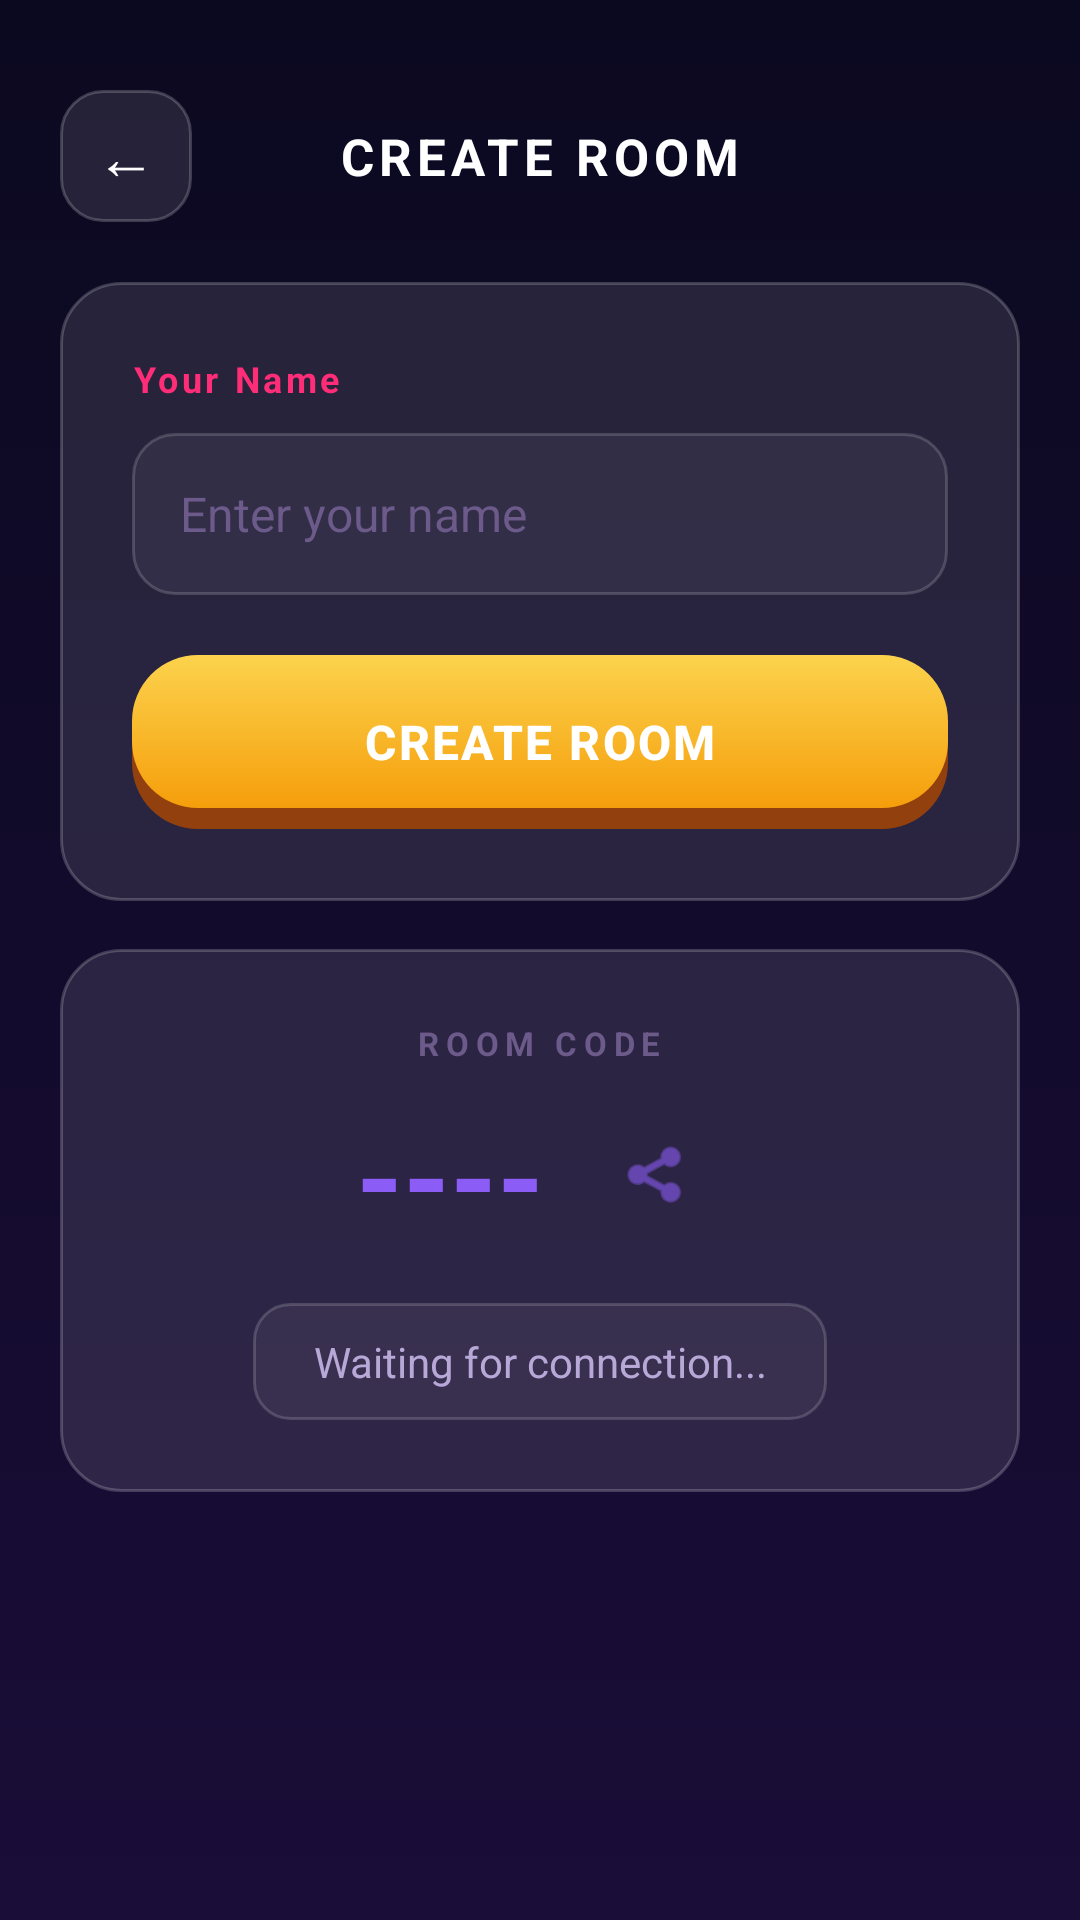

Where to tap for icons on this 1080×1920 app screen, as [x,y]:
share: [654,1174]
